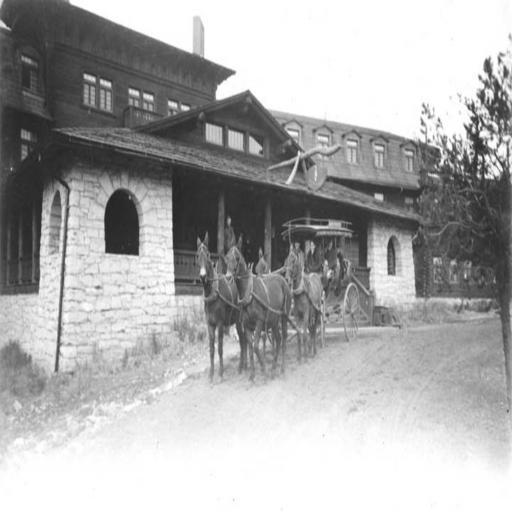horse: (224, 233, 292, 384), (196, 228, 242, 384), (284, 243, 324, 364), (256, 245, 282, 364)
